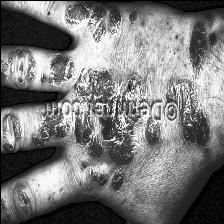Non-Cancerous Skin Condition: (164, 80, 210, 146), (63, 2, 123, 42), (31, 109, 69, 146), (103, 118, 132, 162), (188, 25, 207, 76), (40, 55, 73, 84), (110, 174, 122, 191)
